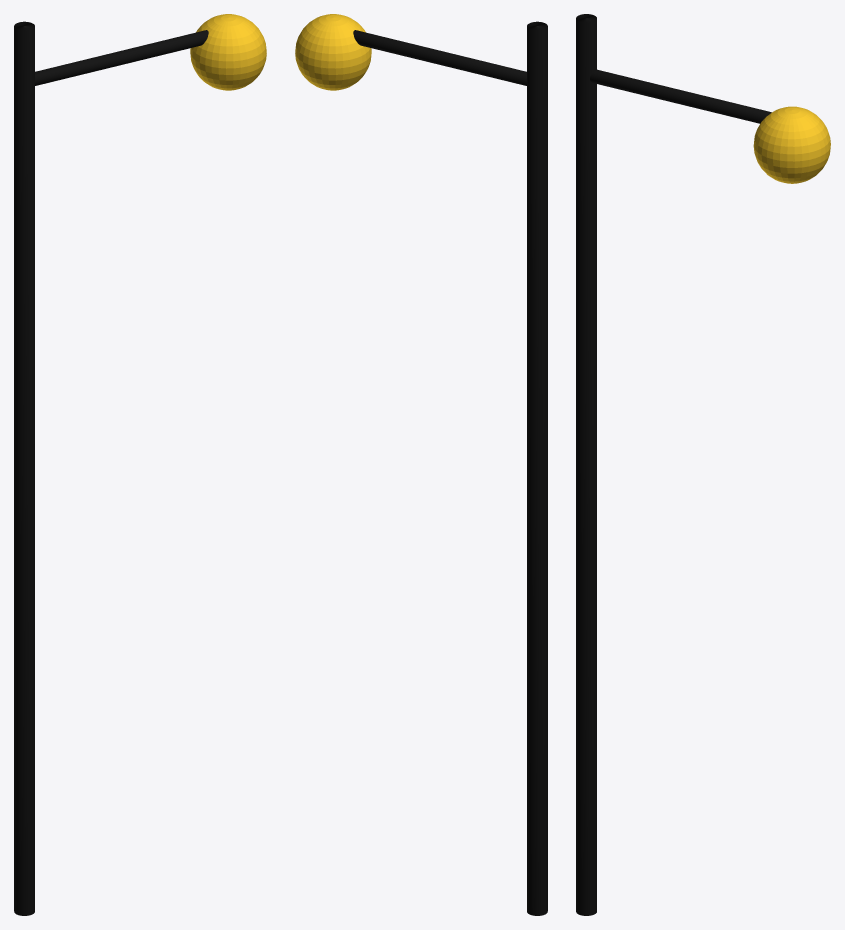
File: street_light_photoreal_proxy.fbx
3 renders of one model, left to right at view 1: azimuth 30°, elevation 25°; view 2: azimuth 150°, elevation 25°; view 3: azimuth 330°, elevation 25°, orthographic.
Visible parts, largest first — view 1: streetlight_pole, streetlight_globe, streetlight_arm; view 2: streetlight_pole, streetlight_globe, streetlight_arm; view 3: streetlight_pole, streetlight_globe, streetlight_arm.
Part boxes in pixels (<box>): streetlight_pole: <box>14,21,34,915</box>; streetlight_globe: <box>190,14,266,90</box>; streetlight_arm: <box>34,30,208,85</box>; streetlight_pole: <box>527,21,547,915</box>; streetlight_globe: <box>295,14,371,90</box>; streetlight_arm: <box>353,30,527,85</box>; streetlight_pole: <box>576,14,596,915</box>; streetlight_globe: <box>753,106,830,183</box>; streetlight_arm: <box>590,69,771,123</box>.
Bounding box in the file's own units: 163 × 560 × 44.
